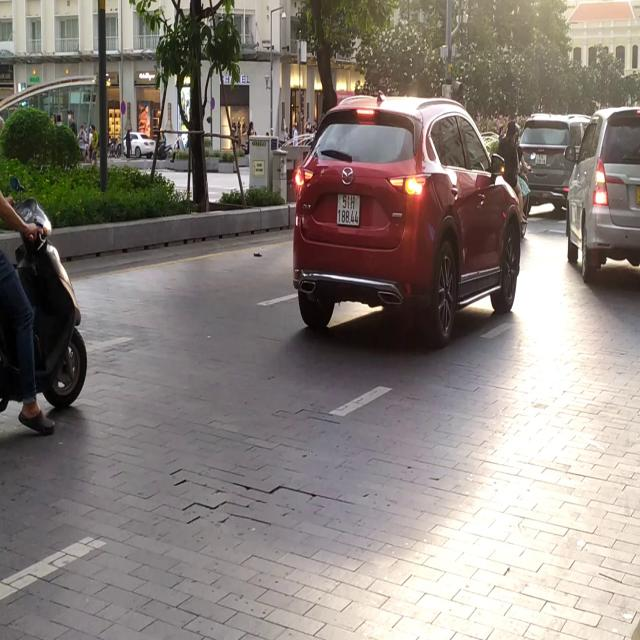bien_trang: (338, 190, 362, 228)
